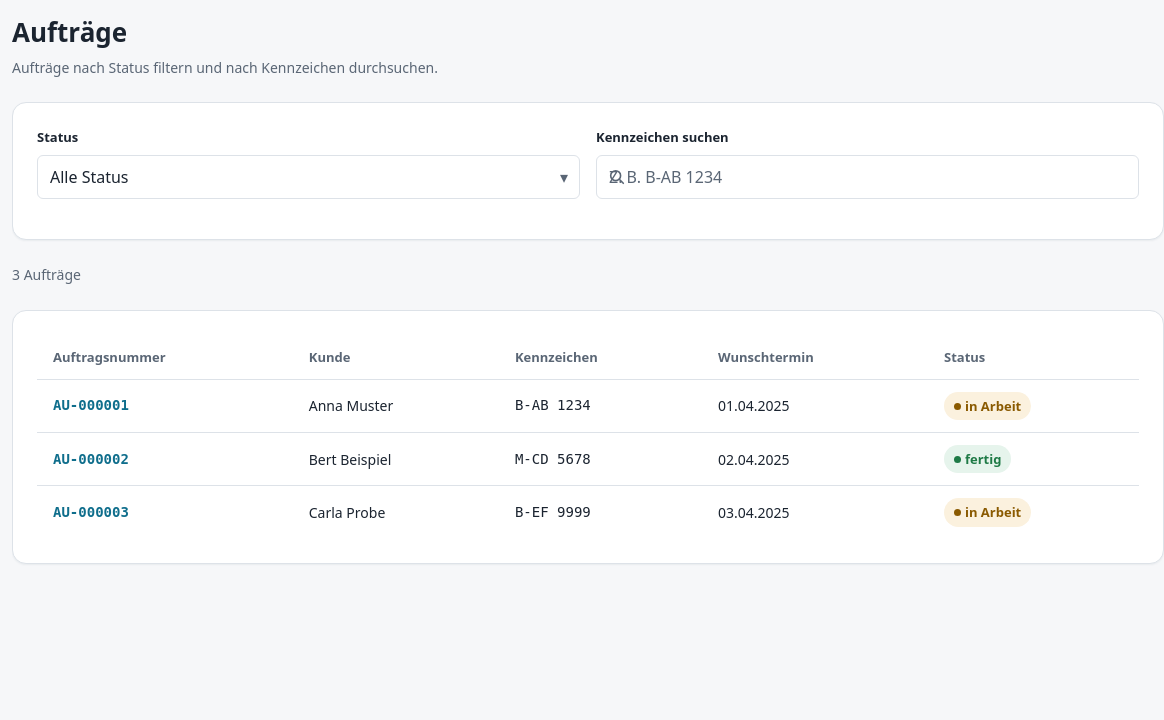
Test: WorkshopOrdersPage › narrows the list by license plate search
Expected: the link "AU-000001" is shown, 53,397 -> 129,413
Type "m-cd" into the field labelled "Kennzeichen suchen" at x=868, y=177, box 596,155 -> 1139,199
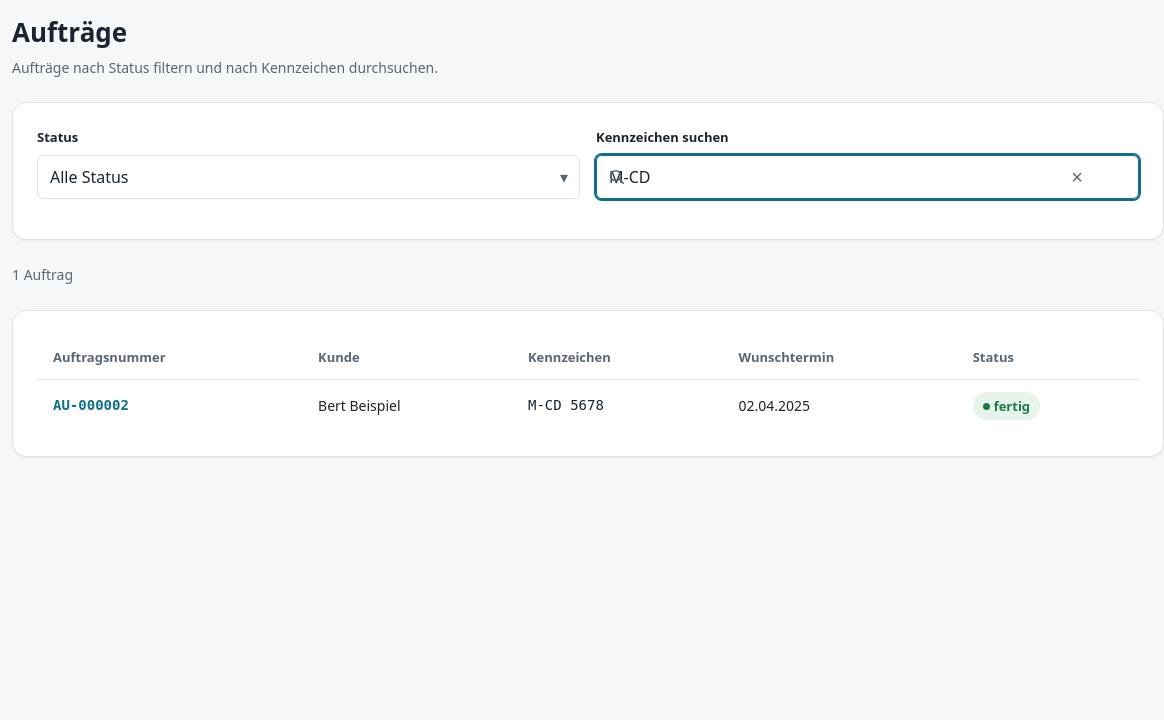
Expected: the link "AU-000002" is shown, 53,397 -> 129,413
Expected: the link "AU-000001" is gone
Expected: the link "AU-000003" is gone
